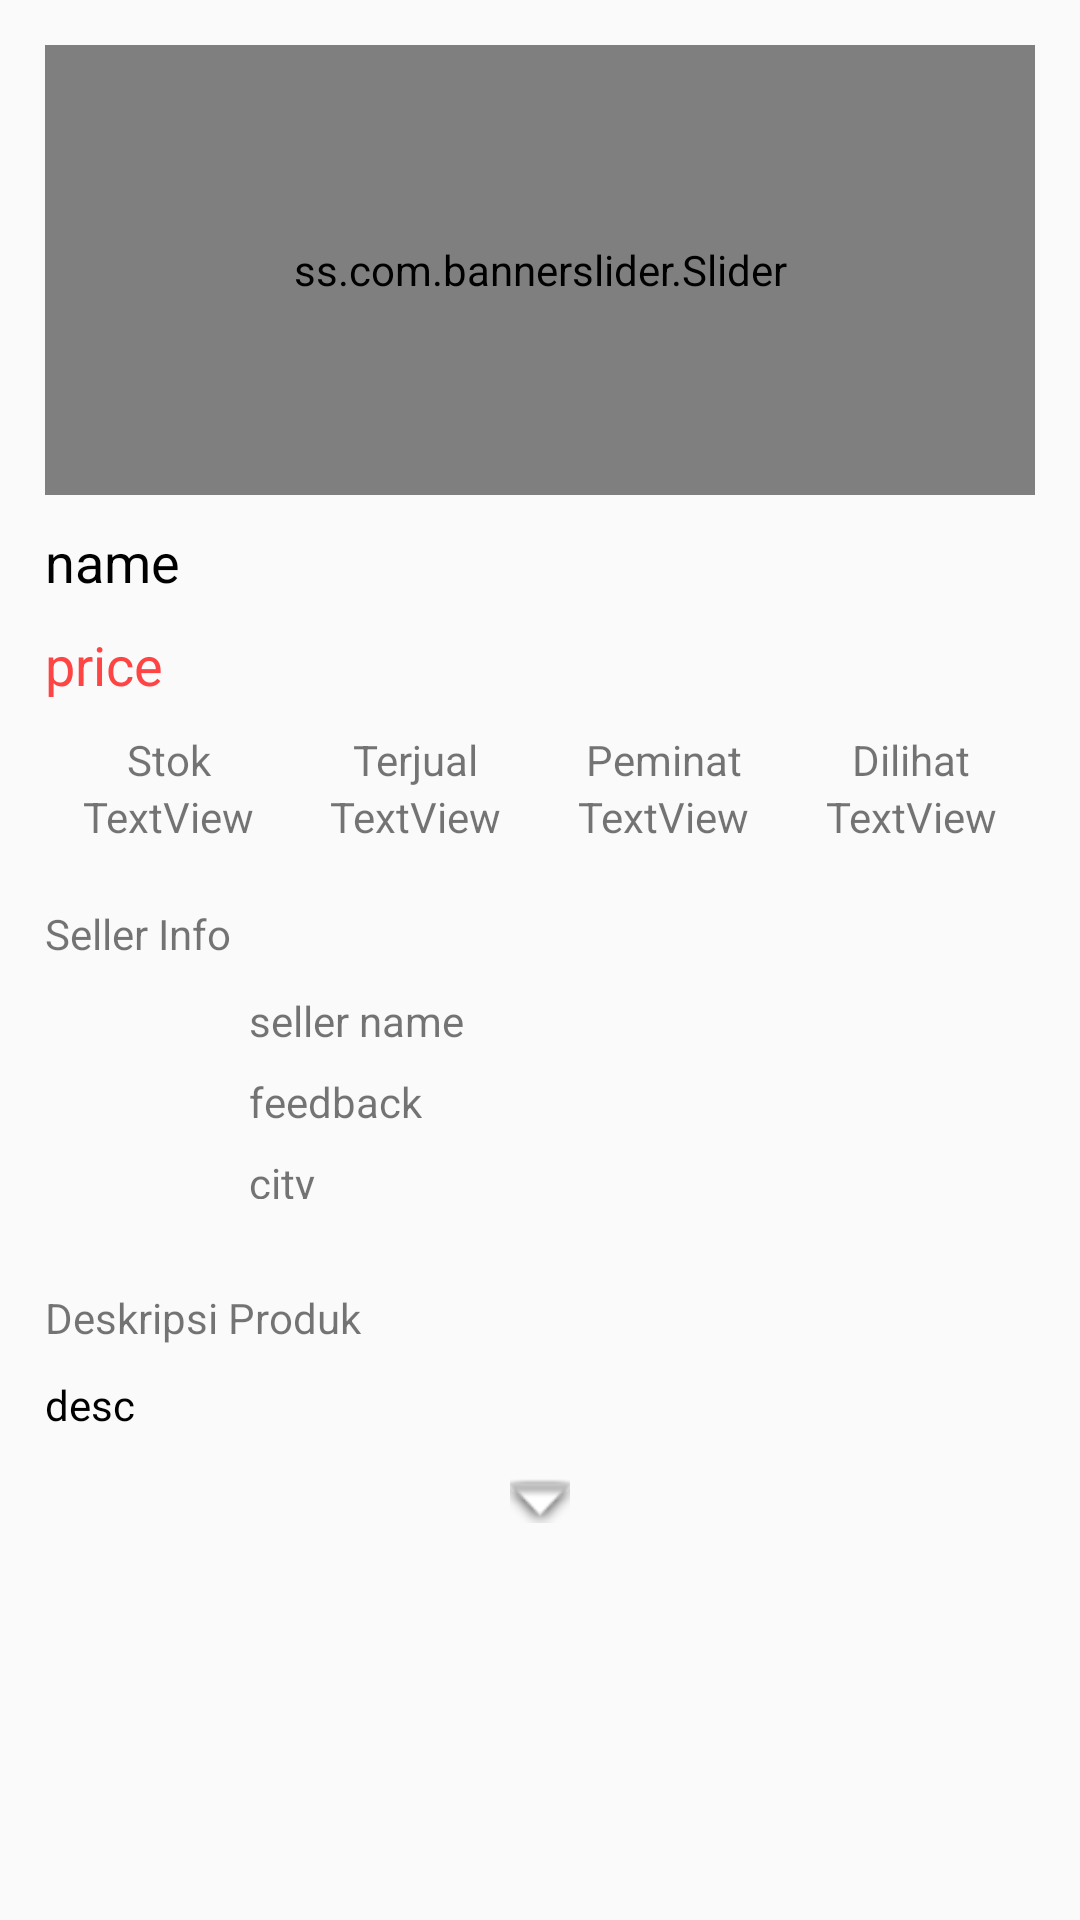

Point at icon controls on the screen. Image size 1080px x 1920px, points as (x,y).
arrow down float: (540,1501)
